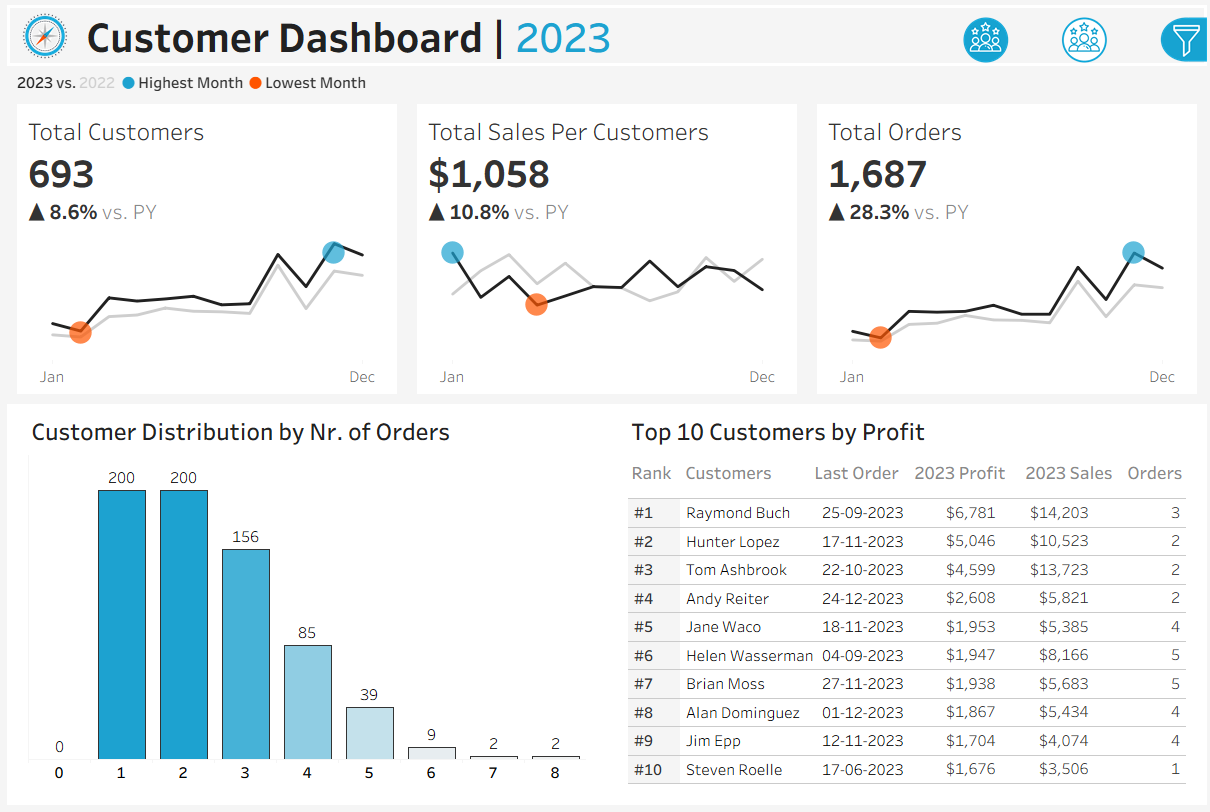

Layout of this report page (visuals, bound fields, positions):
{"tool":"tableau","page":{"name":"Customer Dashboard","canvas":[1200,800],"ordinal":0},"visuals":[{"type":"image","param":"Image/Icon - Logo.png","box":[3,3,69,55]},{"type":"text","box":[72,3,828,55]},{"type":"dashboard-object","box":[929,7,99,55]},{"type":"dashboard-object","box":[1028,7,99,55]},{"type":"text","box":[949,10,240,131]},{"type":"worksheet","title":"Legend KPI","mark":"Automatic","box":[0,61,1200,38]},{"type":"worksheet","title":"KPI Customers","mark":"Automatic","rows":["Min/Max Profit (copy)_0788936487542788"],"cols":["Order Date"],"box":[0,99,400,300]},{"type":"worksheet","title":"KPI Sales Per Customers","mark":"Automatic","rows":["Min/Max Profit (copy)_1269698032476166"],"cols":["Order Date"],"box":[400,99,400,300]},{"type":"worksheet","title":"KPI Orders","mark":"Automatic","rows":["Min/Max Profit (copy)_1269698033135623"],"cols":["Order Date"],"box":[800,99,400,300]},{"type":"parameter","param":"[Parameters].[Parameter 1]","box":[949,141,240,56]},{"type":"text","box":[949,197,240,33]},{"type":"filter","title":"KPI Customers","param":"[federated.0gbk7bk04domhm1fcnfgo03u82ke].[none:Category:nk]","box":[949,230,240,61]},{"type":"filter","title":"KPI Customers","param":"[federated.0gbk7bk04domhm1fcnfgo03u82ke].[none:Sub-Category:nk]","box":[949,291,240,61]},{"type":"blank","box":[949,352,240,45]},{"type":"text","box":[949,397,240,33]},{"type":"text","box":[17,406,566,40]},{"type":"text","box":[617,406,566,40]},{"type":"filter","title":"KPI Customers","param":"[federated.0gbk7bk04domhm1fcnfgo03u82ke].[none:Region:nk]","box":[949,430,240,61]},{"type":"worksheet","title":"Customer Distribution","mark":"Bar","rows":["CY Profit (copy)_0788936487129090"],"cols":["Calculation_1299934690942976"],"box":[17,446,566,337]},{"type":"text","box":[617,446,54,43]},{"type":"text","box":[671,446,129,43]},{"type":"text","box":[800,446,100,43]},{"type":"text","box":[900,446,111,43]},{"type":"text","box":[1011,446,102,43]},{"type":"text","box":[1113,446,70,43]},{"type":"worksheet","title":"Top Customers","mark":"Automatic","rows":["Calculation_1299934693367811","Customer Name","Order Date"],"box":[617,489,566,294]},{"type":"filter","title":"Customer Distribution","param":"[federated.0gbk7bk04domhm1fcnfgo03u82ke].[none:State:nk]","box":[949,491,240,61]},{"type":"filter","title":"Customer Distribution","param":"[federated.0gbk7bk04domhm1fcnfgo03u82ke].[none:City:nk]","box":[949,552,240,61]}]}

Visuals, with their boxes in screenshot pixels (x1, y1, x2, y2), scaled from the page's 1200x800 canvas onto the 1210x812 screenshot:
image: {"left": 3, "top": 3, "right": 73, "bottom": 59}
text: {"left": 73, "top": 3, "right": 908, "bottom": 59}
dashboard-object: {"left": 937, "top": 7, "right": 1037, "bottom": 63}
dashboard-object: {"left": 1037, "top": 7, "right": 1136, "bottom": 63}
text: {"left": 957, "top": 10, "right": 1199, "bottom": 143}
"Legend KPI" worksheet: {"left": 0, "top": 62, "right": 1209, "bottom": 100}
"KPI Customers" worksheet: {"left": 0, "top": 100, "right": 403, "bottom": 405}
"KPI Sales Per Customers" worksheet: {"left": 403, "top": 100, "right": 807, "bottom": 405}
"KPI Orders" worksheet: {"left": 807, "top": 100, "right": 1209, "bottom": 405}
parameter: {"left": 957, "top": 143, "right": 1199, "bottom": 200}
text: {"left": 957, "top": 200, "right": 1199, "bottom": 233}
"KPI Customers" filter: {"left": 957, "top": 233, "right": 1199, "bottom": 295}
"KPI Customers" filter: {"left": 957, "top": 295, "right": 1199, "bottom": 357}
blank: {"left": 957, "top": 357, "right": 1199, "bottom": 403}
text: {"left": 957, "top": 403, "right": 1199, "bottom": 436}
text: {"left": 17, "top": 412, "right": 588, "bottom": 453}
text: {"left": 622, "top": 412, "right": 1193, "bottom": 453}
"KPI Customers" filter: {"left": 957, "top": 436, "right": 1199, "bottom": 498}
"Customer Distribution" worksheet (Bar marks): {"left": 17, "top": 453, "right": 588, "bottom": 795}
text: {"left": 622, "top": 453, "right": 677, "bottom": 496}
text: {"left": 677, "top": 453, "right": 807, "bottom": 496}
text: {"left": 807, "top": 453, "right": 908, "bottom": 496}
text: {"left": 908, "top": 453, "right": 1019, "bottom": 496}
text: {"left": 1019, "top": 453, "right": 1122, "bottom": 496}
text: {"left": 1122, "top": 453, "right": 1193, "bottom": 496}
"Top Customers" worksheet: {"left": 622, "top": 496, "right": 1193, "bottom": 795}
"Customer Distribution" filter: {"left": 957, "top": 498, "right": 1199, "bottom": 560}
"Customer Distribution" filter: {"left": 957, "top": 560, "right": 1199, "bottom": 622}
